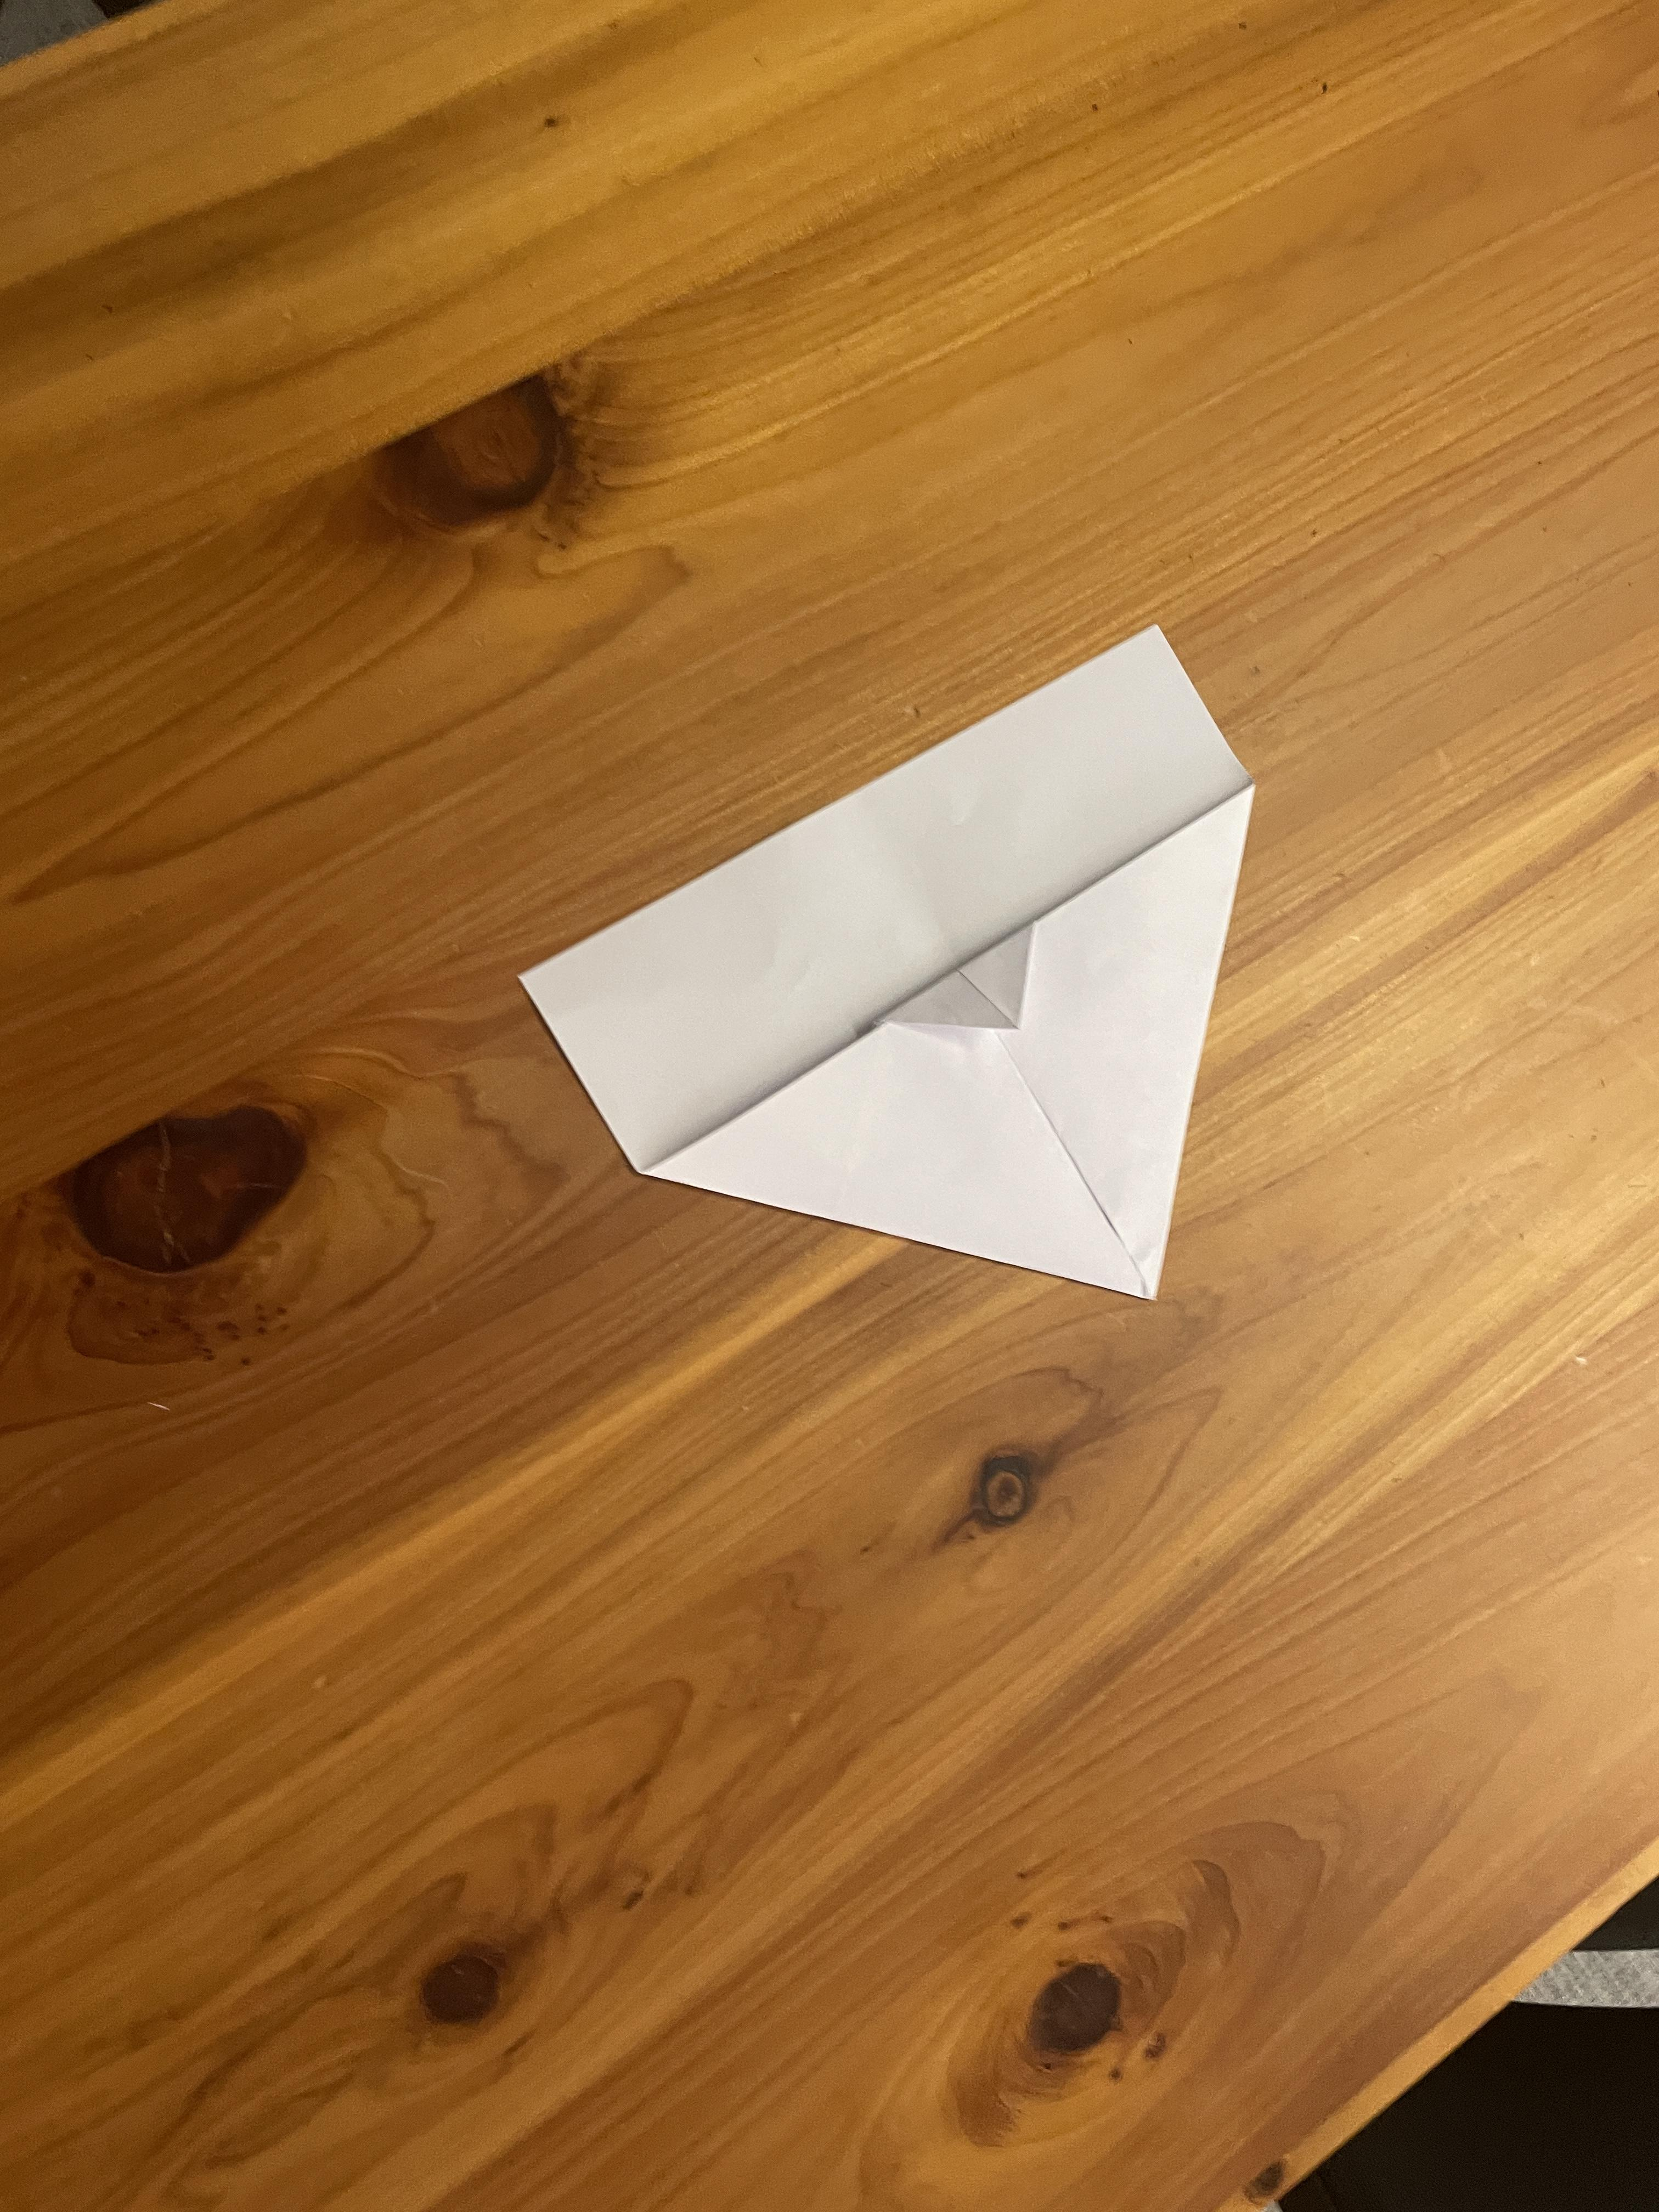shape_2: (455, 533, 1347, 1406)
